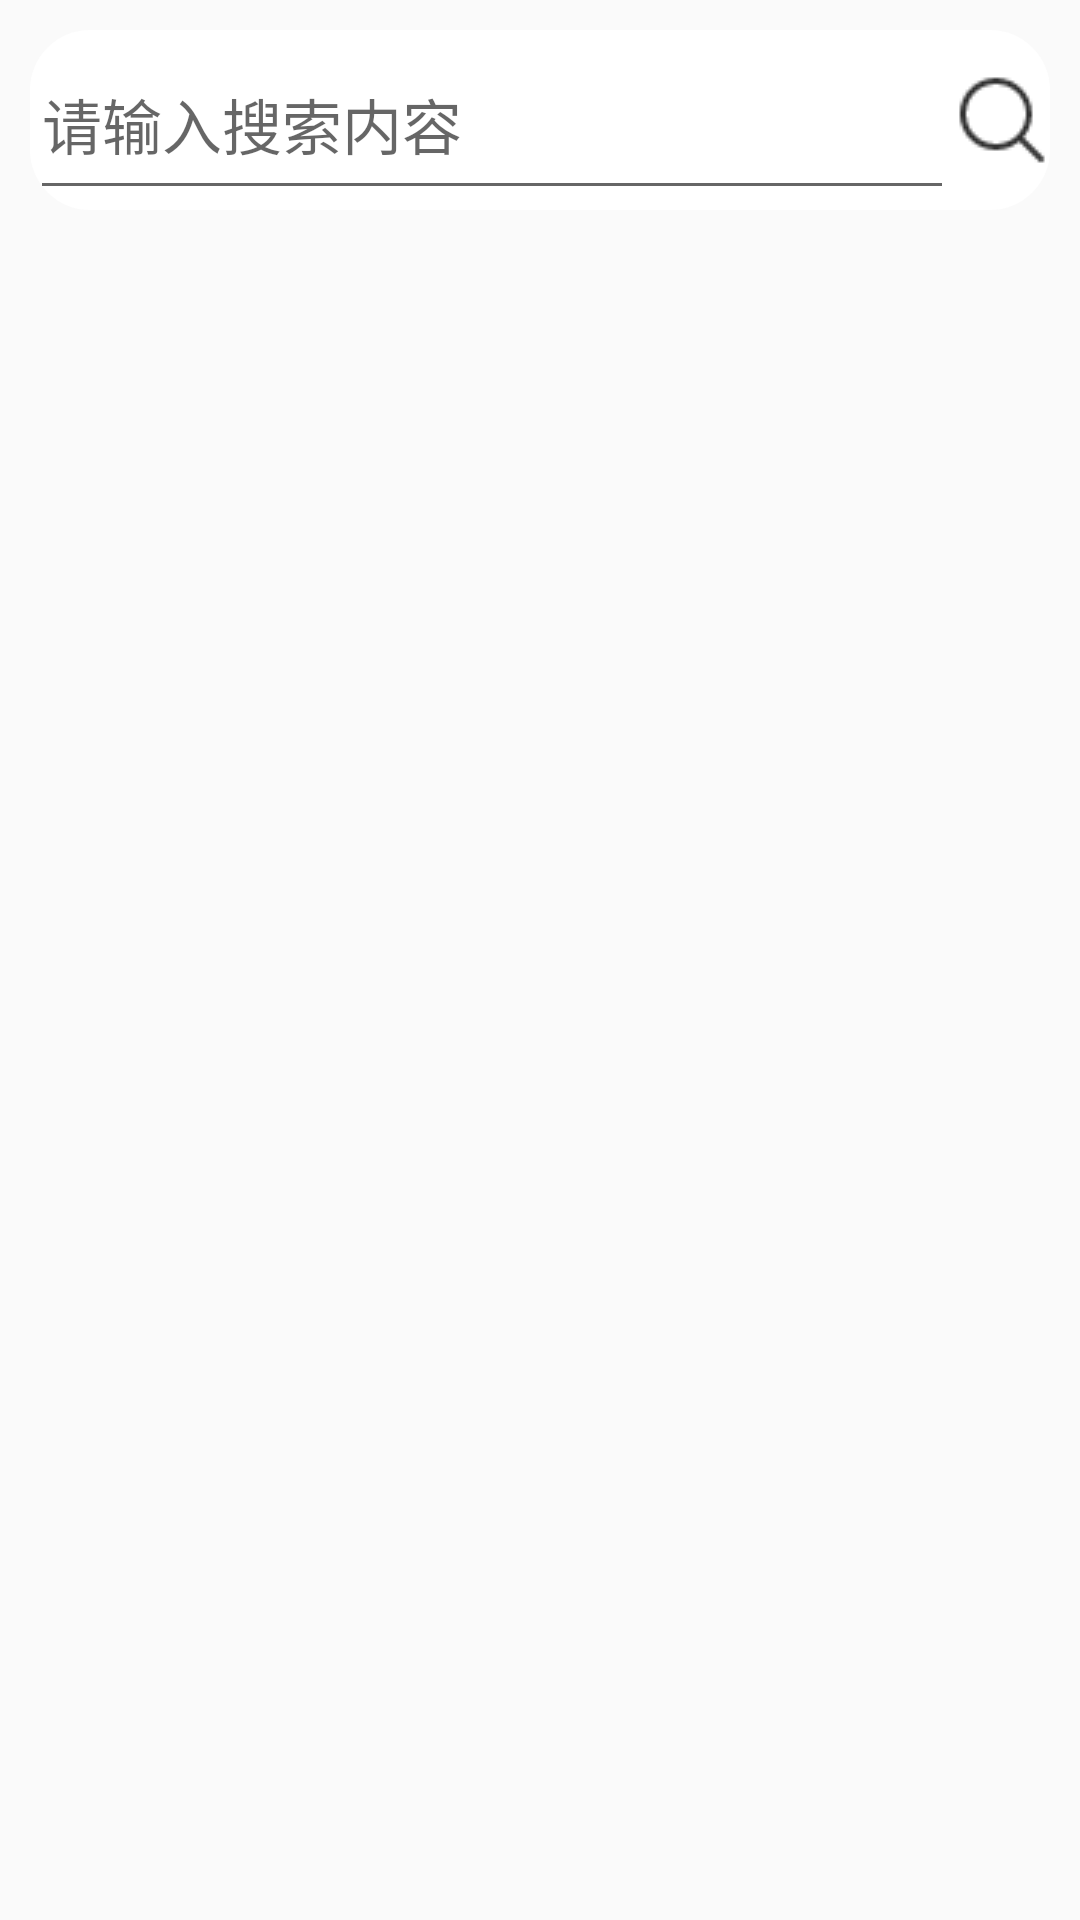

Point at icon controls on the screen. Image size 1080px x 1920px, points as (x=x, y=y).
sousuo: (x=1002, y=120)
